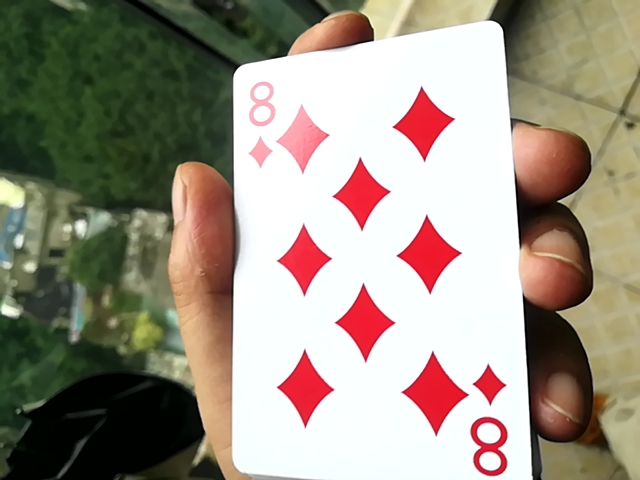fk 8: (218, 6, 526, 480)
